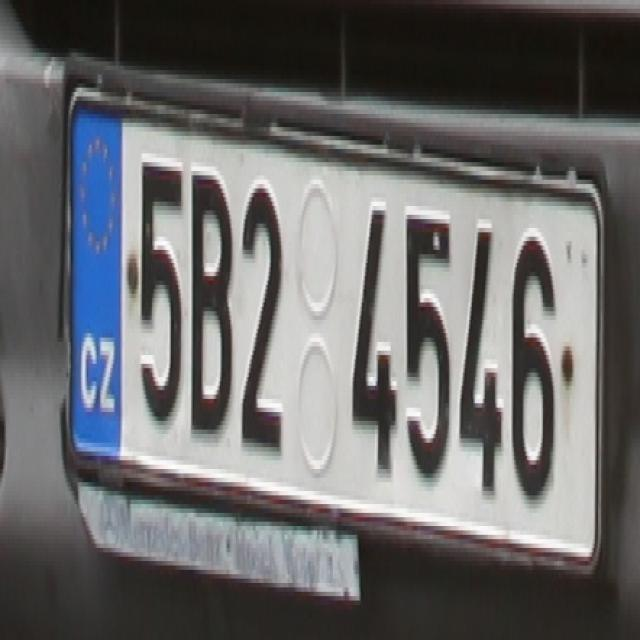2: (238, 184, 282, 460)
4: (350, 197, 400, 469), (458, 214, 506, 496)
5: (404, 206, 451, 478), (138, 154, 182, 408)
6: (510, 228, 554, 504)
B: (190, 162, 233, 443)
